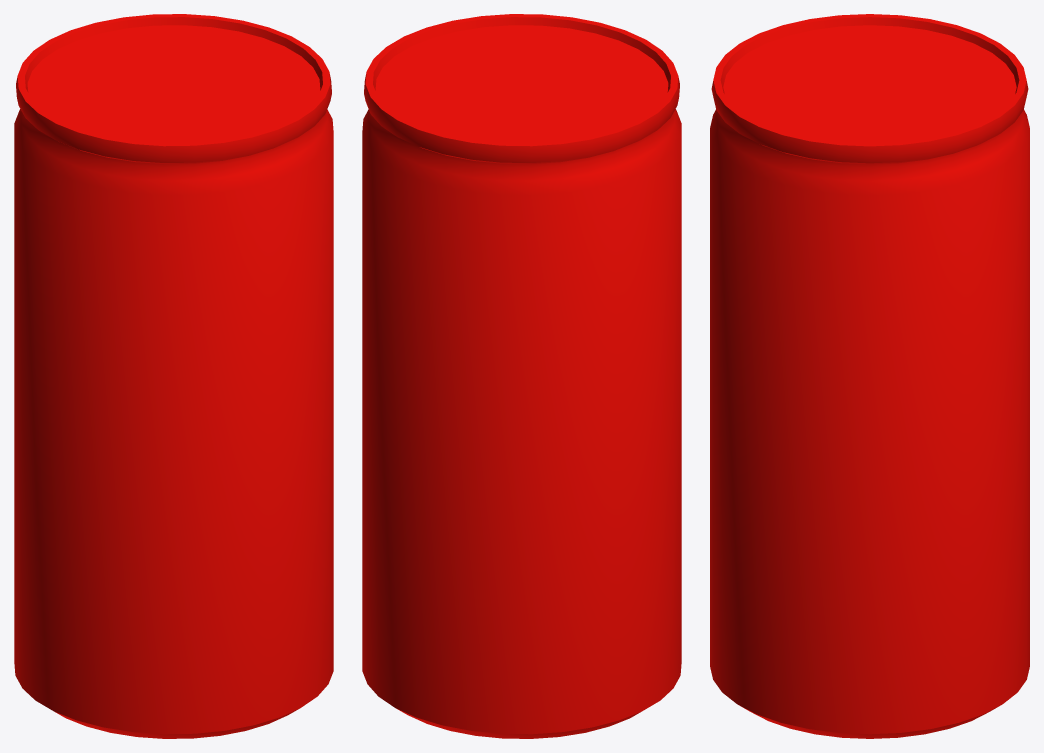
Rendered from soda.fbx.
3 renders of one model, left to right at view 1: azimuth 30°, elevation 25°; view 2: azimuth 150°, elevation 25°; view 3: azimuth 270°, elevation 25°, orthographic.
Visible parts, largest first — view 1: Cylinder; view 2: Cylinder; view 3: Cylinder.
Boxes of the visible parts, x1,y1,x2,y2 form: Cylinder: [14, 14, 333, 738]; Cylinder: [362, 14, 681, 738]; Cylinder: [710, 14, 1029, 738].
Bounding box in the file's own units: 175 × 368 × 175.
